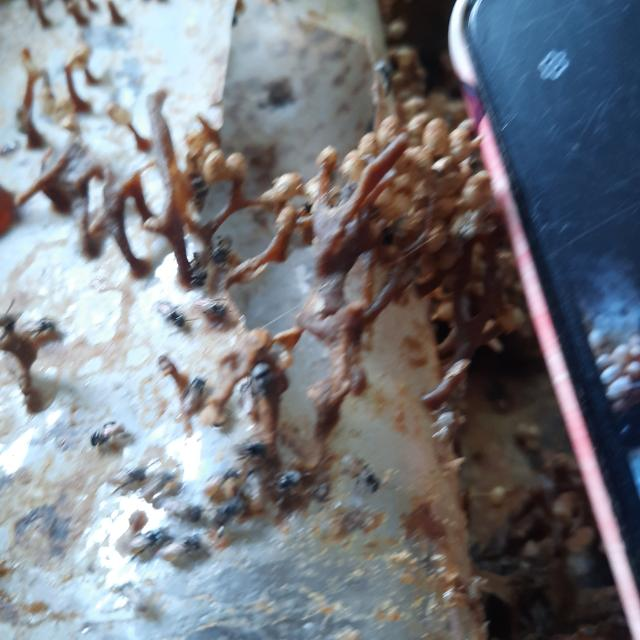honeybee: (114, 524, 166, 562), (344, 457, 388, 498), (161, 532, 206, 571), (82, 416, 130, 452), (209, 493, 251, 531), (106, 459, 150, 495), (152, 299, 190, 335), (210, 460, 246, 498), (178, 375, 213, 413), (200, 290, 234, 329), (178, 250, 211, 290), (213, 232, 247, 270), (376, 57, 409, 93), (147, 457, 178, 494), (21, 312, 56, 342), (186, 168, 211, 210), (171, 494, 206, 524), (244, 364, 272, 399), (241, 434, 273, 464), (277, 466, 304, 492)
